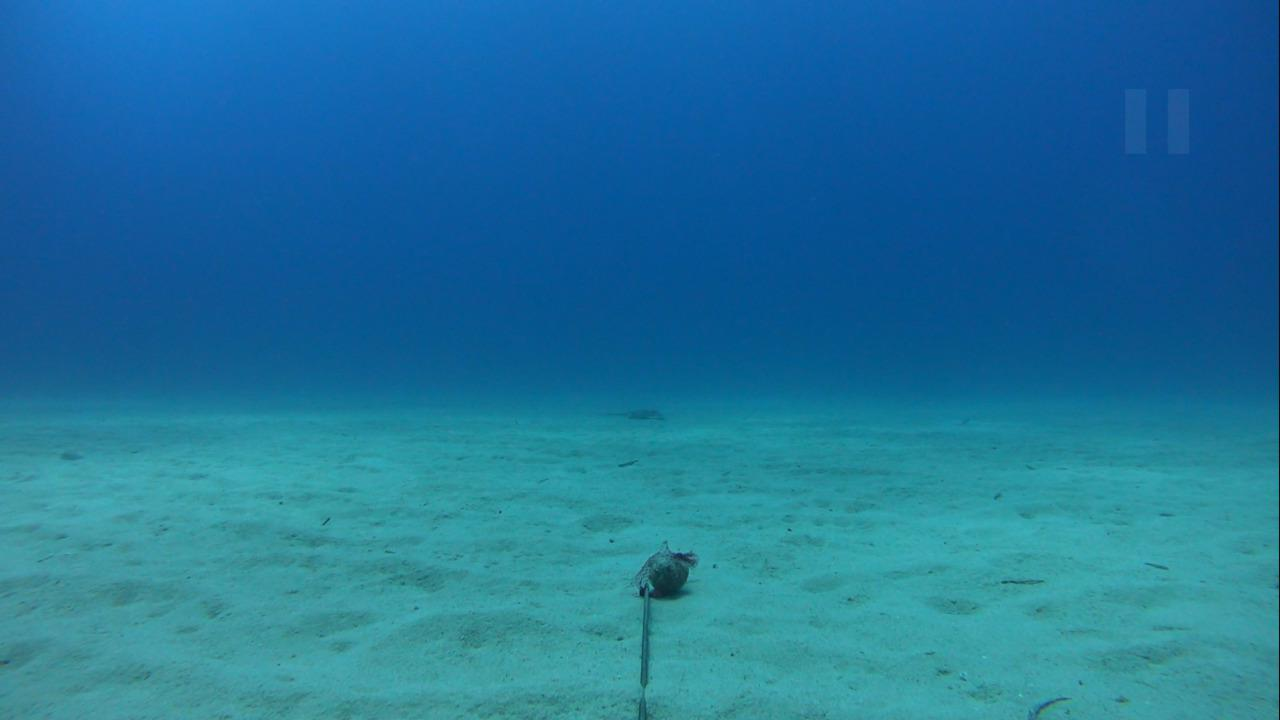myliobatis: (596, 400, 669, 429)
